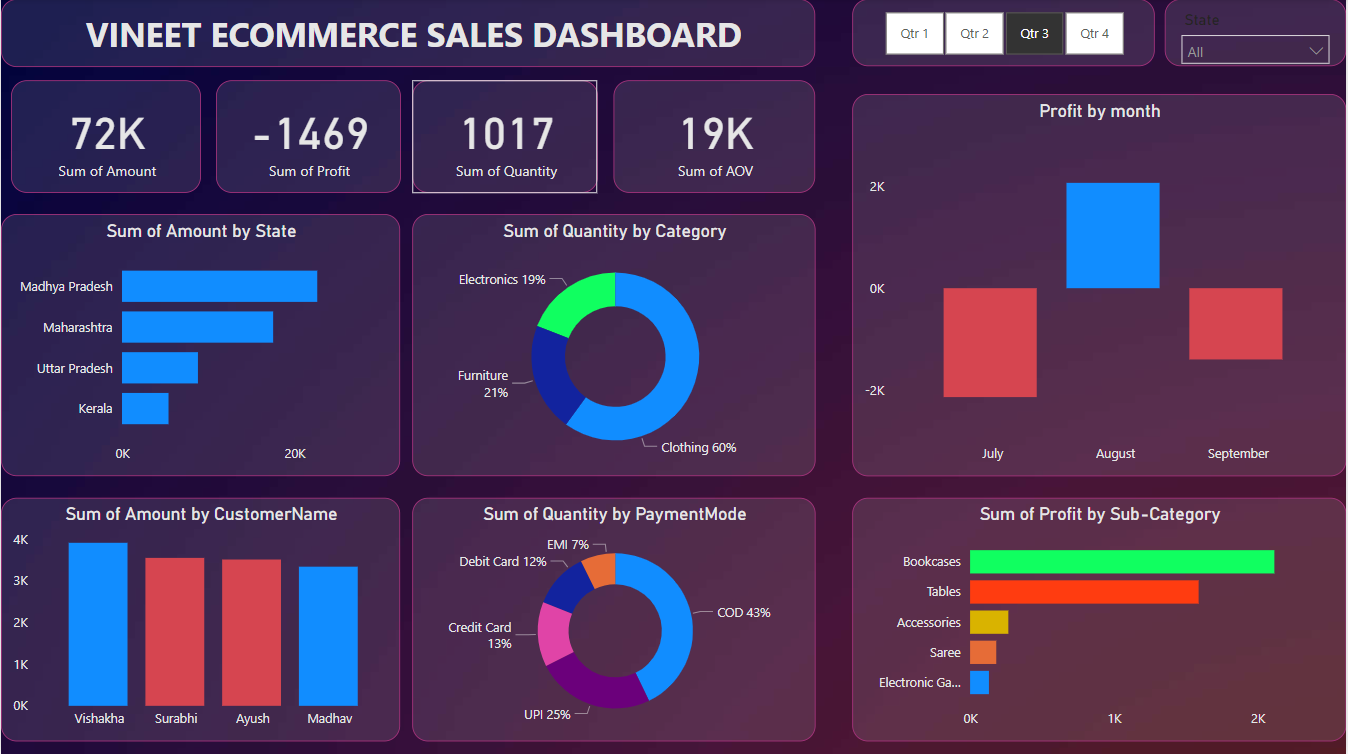

What the dashboard file says about the page in this screenshot:
{"tool":"powerbi","page":{"name":"Page 1","canvas":[1280,720],"ordinal":0},"visuals":[{"type":"textbox","box":[0,0,775.3,64.5],"z":0},{"type":"columnChart","title":"Profit by month","fields":{"Category":["Orders.Order Date.Variation.Date Hierarchy.Month"],"Y":["Details.Profit"]},"box":[810.4,90.4,470.1,364.2],"z":1000},{"type":"barChart","fields":{"Category":["Details.Sub-Category"],"Y":["Details.Profit"]},"box":[810.4,474.8,470.1,232.1],"z":2000},{"type":"donutChart","fields":{"Y":["Details.Quantity"],"Category":["Details.Category"]},"box":[391.1,204.5,384.2,249.7],"z":3000},{"type":"donutChart","fields":{"Y":["Details.Quantity"],"Category":["Details.PaymentMode"]},"box":[391.1,474.8,384.2,231.9],"z":4000},{"type":"card","fields":{"Values":["Details.Profit"]},"box":[204.5,76.8,175.6,107],"z":5000},{"type":"card","fields":{"Values":["Details.Amount"]},"box":[9.6,76.8,181.1,107],"z":6000},{"type":"card","fields":{"Values":["Details.Quantity"]},"box":[391.1,76.8,177,107],"z":7000},{"type":"card","fields":{"Values":["Details.AOV"]},"box":[583.2,76.8,192.1,107],"z":8000},{"type":"barChart","fields":{"Category":["Orders.State"],"Y":["Details.Amount"]},"box":[0,204.5,380.1,249.7],"z":9000},{"type":"columnChart","fields":{"Category":["Orders.CustomerName"],"Y":["Details.Amount"]},"box":[0,474.8,380.1,231.9],"z":10000},{"type":"slicer","fields":{"Values":["Orders.Order Date.Variation.Date Hierarchy.Quarter"]},"box":[810.4,0,288,64.3],"z":11000},{"type":"slicer","fields":{"Values":["Orders.State"]},"box":[1108,0,172.6,64.3],"z":12000}]}

Visuals, with their boxes in screenshot pixels (x1, y1, x2, y2), scaled from the page's 1280x720 canvas onto the 1348x754 screenshot:
textbox: {"x1": 0, "y1": 0, "x2": 816, "y2": 68}
"Profit by month" columnChart: {"x1": 853, "y1": 95, "x2": 1347, "y2": 476}
barChart - Details.Sub-Category x Details.Profit: {"x1": 853, "y1": 497, "x2": 1347, "y2": 740}
donutChart - Details.Quantity x Details.Category: {"x1": 412, "y1": 214, "x2": 816, "y2": 476}
donutChart - Details.Quantity x Details.PaymentMode: {"x1": 412, "y1": 497, "x2": 816, "y2": 740}
card - Details.Profit: {"x1": 215, "y1": 80, "x2": 400, "y2": 192}
card - Details.Amount: {"x1": 10, "y1": 80, "x2": 201, "y2": 192}
card - Details.Quantity: {"x1": 412, "y1": 80, "x2": 598, "y2": 192}
card - Details.AOV: {"x1": 614, "y1": 80, "x2": 816, "y2": 192}
barChart - Orders.State x Details.Amount: {"x1": 0, "y1": 214, "x2": 400, "y2": 476}
columnChart - Orders.CustomerName x Details.Amount: {"x1": 0, "y1": 497, "x2": 400, "y2": 740}
slicer - Orders.Order Date.Variation.Date Hierarchy.Quarter: {"x1": 853, "y1": 0, "x2": 1157, "y2": 67}
slicer - Orders.State: {"x1": 1167, "y1": 0, "x2": 1347, "y2": 67}
